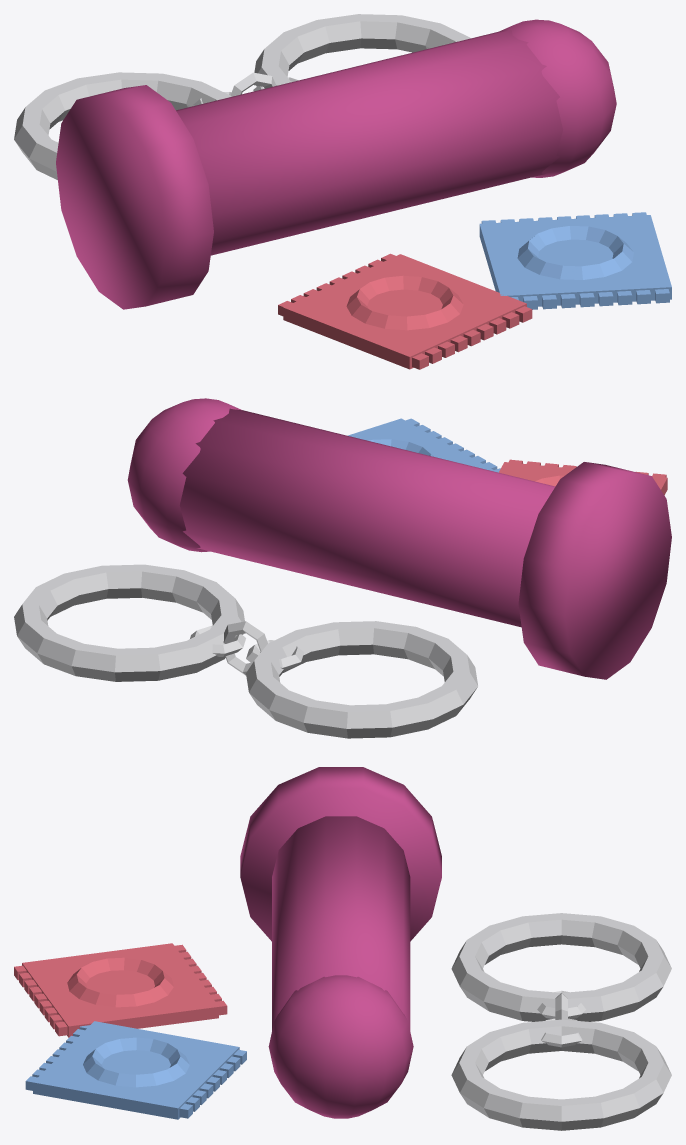
The model's file is drawer_joke.glb.
The picture shows the model from 3 angles, top to bottom: view 1: azimuth 30°, elevation 25°; view 2: azimuth 150°, elevation 25°; view 3: azimuth 270°, elevation 25°; orthographic projection. The views are drawn at different scales.
Parts seen in each view (by area): view 1: drawer_joke; view 2: drawer_joke; view 3: drawer_joke.
Boxes of the visible parts, bbox=[...] form: drawer_joke: bbox=[14, 14, 671, 369]; drawer_joke: bbox=[14, 398, 671, 738]; drawer_joke: bbox=[14, 767, 671, 1130].
Size of the model in its own units: 0.1654 by 0.0624 by 0.2088.
